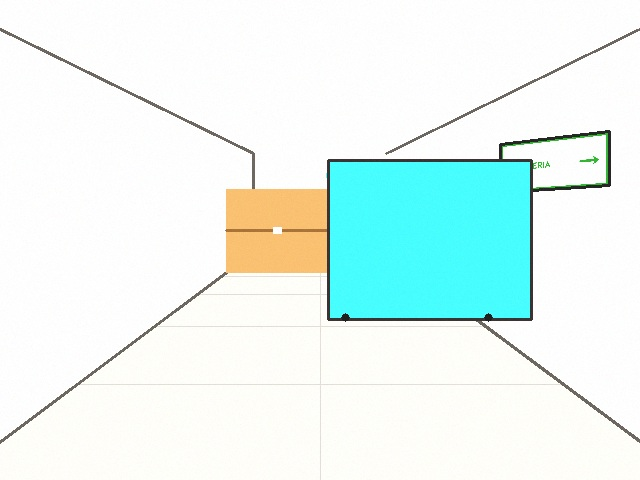box: (226, 189, 328, 272)
cart: (326, 160, 531, 319)
charging_station: (332, 164, 402, 280)
directional_sign: (500, 131, 609, 192)
